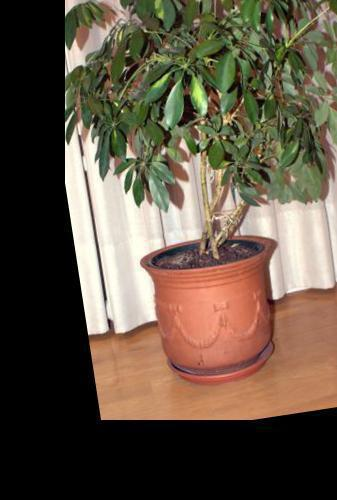Matera: (46, 0, 337, 404)
